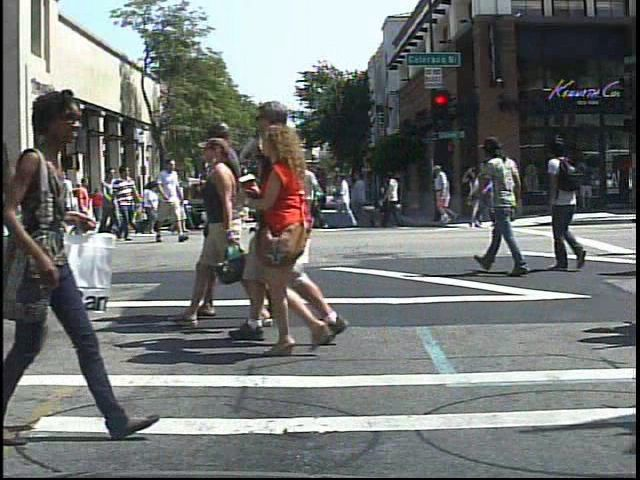person: (1, 78, 113, 451), (232, 92, 353, 344), (246, 119, 351, 357), (540, 132, 602, 278), (479, 127, 530, 281), (152, 157, 192, 247), (110, 161, 139, 244), (50, 166, 80, 245), (96, 164, 123, 242), (430, 160, 457, 225), (27, 183, 51, 244), (89, 183, 109, 222)
